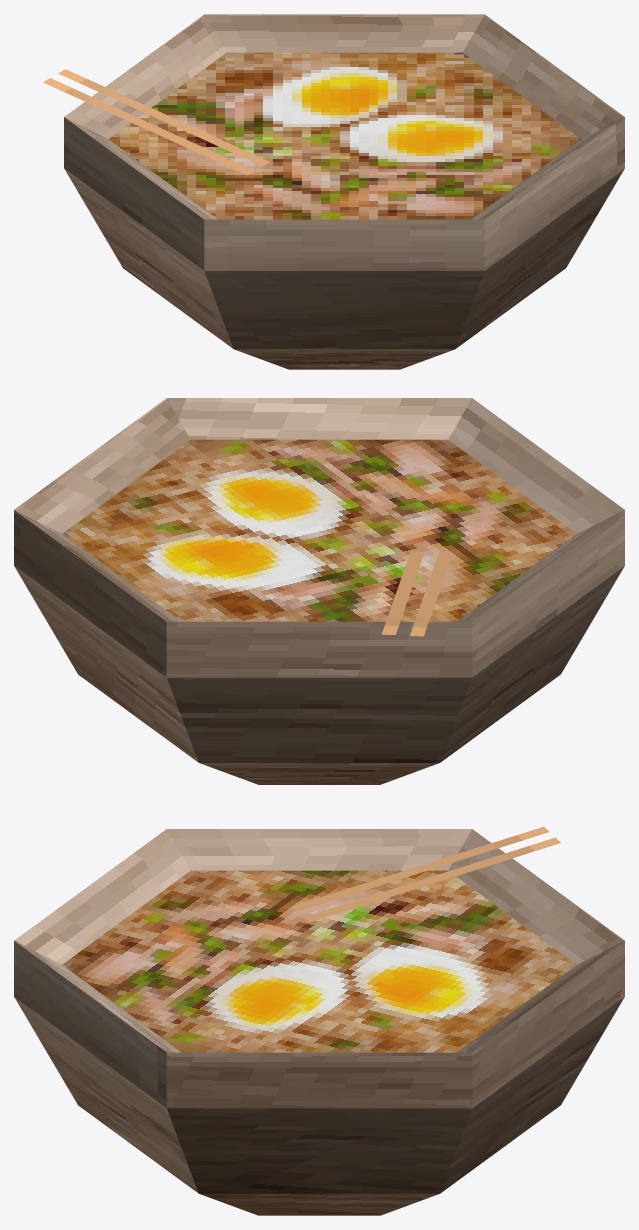
The model's file is ramen-bowl.glb.
The picture shows the model from 3 angles, top to bottom: view 1: azimuth 30°, elevation 25°; view 2: azimuth 150°, elevation 25°; view 3: azimuth 270°, elevation 25°; orthographic projection. The views are drawn at different scales.
Visible parts, largest first — view 1: Cylinder; view 2: Cylinder; view 3: Cylinder.
Boxes of the visible parts, box(x1,y1,x2,y2) form: Cylinder: box(43, 14, 624, 369); Cylinder: box(14, 398, 624, 784); Cylinder: box(14, 826, 624, 1215).
Bounding box in the file's own units: 176 × 87.59 × 200.
Materials: 1 (1 with a texture image).
